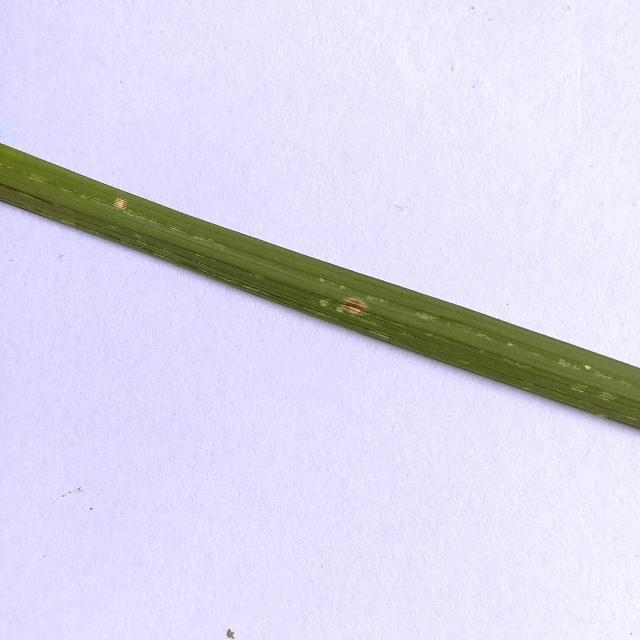Blast: (333, 293, 371, 326), (107, 190, 132, 213)
